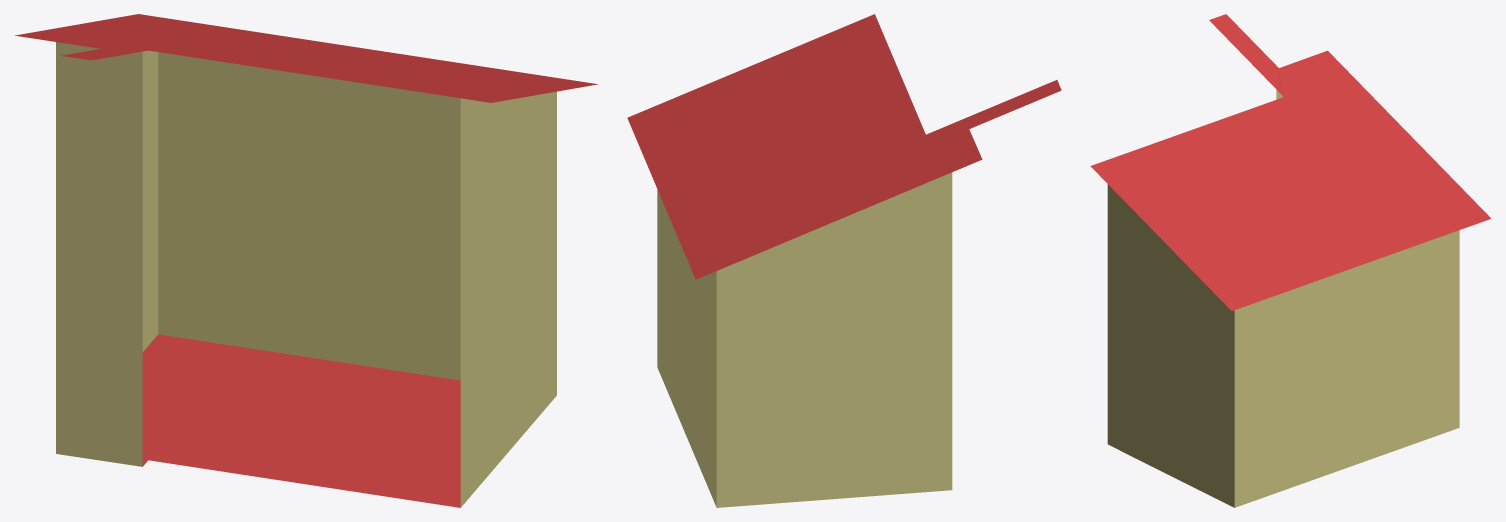
The picture shows the model from 3 angles, left to right: view 1: azimuth 30°, elevation 25°; view 2: azimuth 150°, elevation 25°; view 3: azimuth 270°, elevation 25°; orthographic projection. The views are drawn at different scales.
Bounding box in the file's own units: 9.58 × 8.85 × 7.88.
